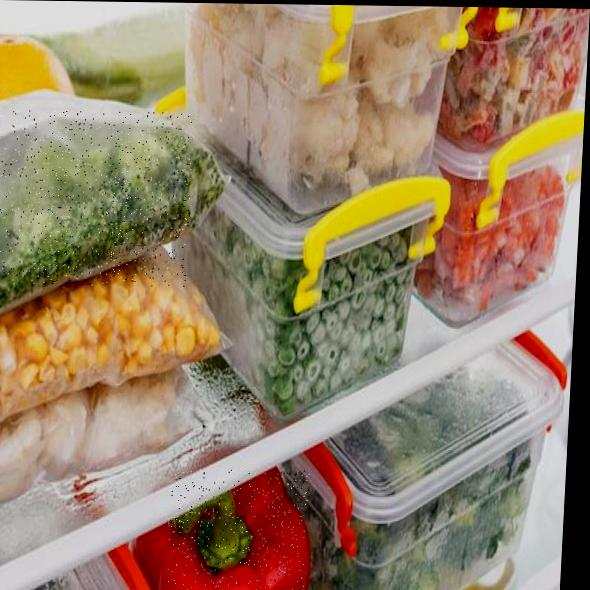broccoli: (0, 109, 193, 287)
red bell pepper: (165, 468, 310, 590)
